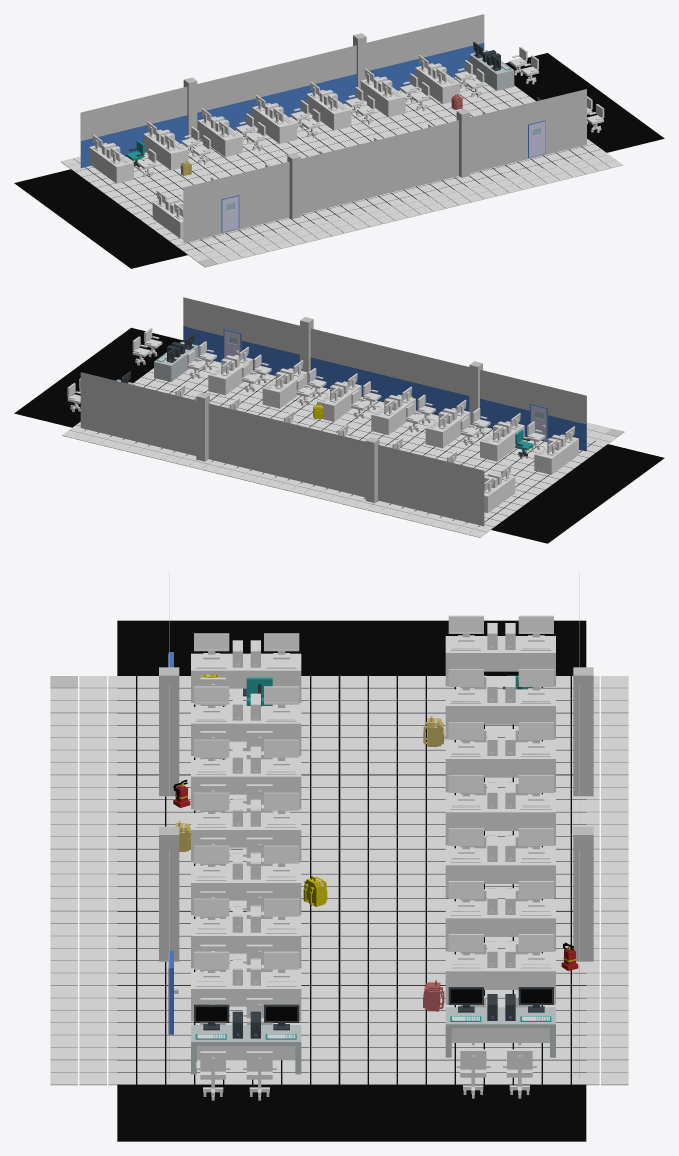
The model's file is 스테이지4.fbx.
3 views of the same model, one above another, from view 1: azimuth 30°, elevation 25°; view 2: azimuth 150°, elevation 25°; view 3: azimuth 270°, elevation 25° (orthographic). The views are drawn at different scales.
Visible parts, largest first — view 1: Cube_2_10_2, Cube_4_2_2, Plane, Cube_instance_37, Cube_instance_35, Cube_instance_33, Cube_instance_34, Cube_instance_32, Cube_3_5_3, Cube_instance_36, Cube_21_2, Cube_instance_31 (+6 smaller); view 2: Cube_4_2_2, 왼쪽벽, Plane, Cube_2_10_2, Cube_instance_44, Cube_12_2, Cube_11_2_2, Cube_instance_42, Cube_instance_39, Cube_instance_43, Cube_instance_41, Cube_instance_38 (+5 smaller); view 3: Plane, Cube_12_2, Cube_21_2, Cube_11_2_2, 기둥1, Cube_3_5_3, Cube_4_7, Cube_instance_31, Cube_instance_44, Cube_instance_32, Cube_instance_38, Cube_instance_39 (+24 smaller).
Boxes of the visible parts, x1,y1,x2,y2 form: Cube_2_10_2: (183, 89, 586, 243); Cube_4_2_2: (80, 14, 484, 168); Plane: (14, 53, 664, 268); Cube_instance_37: (89, 143, 133, 183); Cube_instance_35: (197, 116, 242, 157); Cube_instance_33: (306, 90, 351, 130); Cube_instance_34: (252, 103, 296, 143); Cube_instance_32: (360, 76, 405, 117); Cube_3_5_3: (469, 50, 514, 90); Cube_instance_36: (143, 129, 188, 170); Cube_21_2: (456, 109, 470, 177); Cube_instance_31: (415, 63, 459, 104); Cube_4_2_2: (80, 372, 484, 526); 왼쪽벽: (188, 300, 581, 450); Plane: (14, 327, 664, 543); Cube_2_10_2: (183, 297, 586, 451); Cube_instance_44: (534, 434, 578, 474); Cube_12_2: (196, 392, 209, 466); Cube_11_2_2: (365, 437, 379, 504); Cube_instance_42: (425, 408, 470, 448); Cube_instance_39: (262, 368, 307, 408); Cube_instance_43: (480, 421, 524, 461); Cube_instance_41: (371, 394, 415, 434); Cube_instance_38: (208, 355, 252, 395); Plane: (117, 620, 586, 1141); Cube_12_2: (573, 826, 593, 961); Cube_21_2: (159, 826, 179, 961); Cube_11_2_2: (573, 667, 593, 796); 기둥1: (159, 667, 179, 796); Cube_3_5_3: (445, 1007, 555, 1057); Cube_4_7: (191, 1025, 301, 1074); Cube_instance_31: (445, 954, 555, 1004); Cube_instance_44: (191, 653, 301, 702); Cube_instance_32: (445, 901, 555, 951); Cube_instance_38: (191, 972, 301, 1021); Cube_instance_39: (191, 919, 301, 968).
Size of the model in its own units: 10677 by 1322 by 5008.
